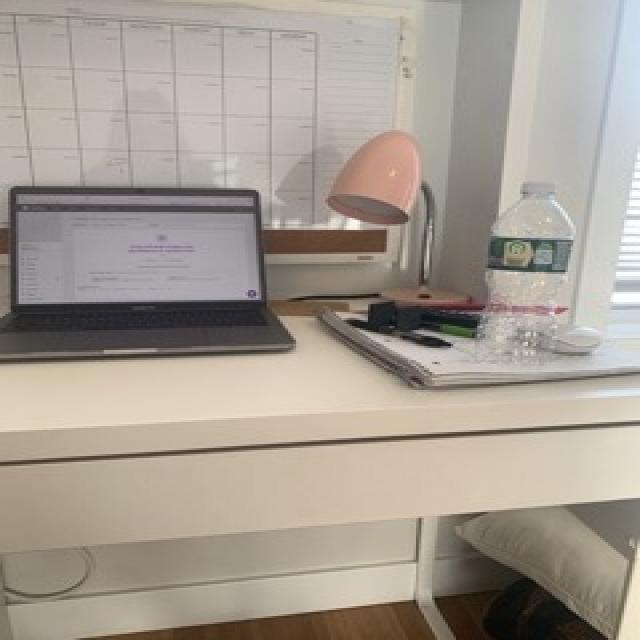water_bottle: (468, 175, 581, 378)
